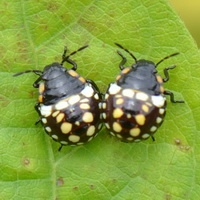insect: (14, 43, 183, 150), (14, 45, 105, 150), (105, 43, 183, 141)
